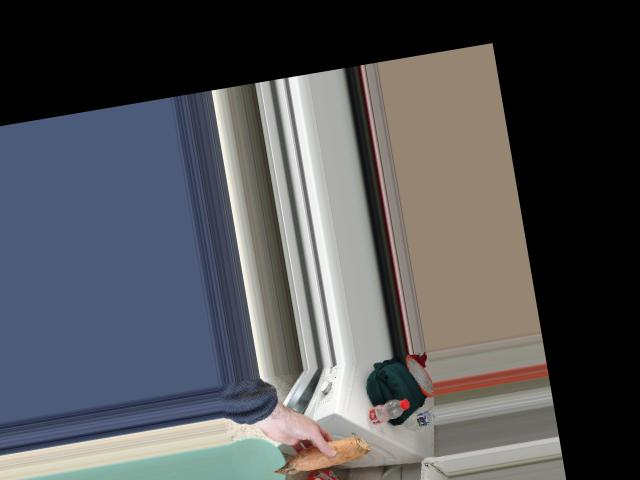sweet_potato: (272, 430, 363, 475)
